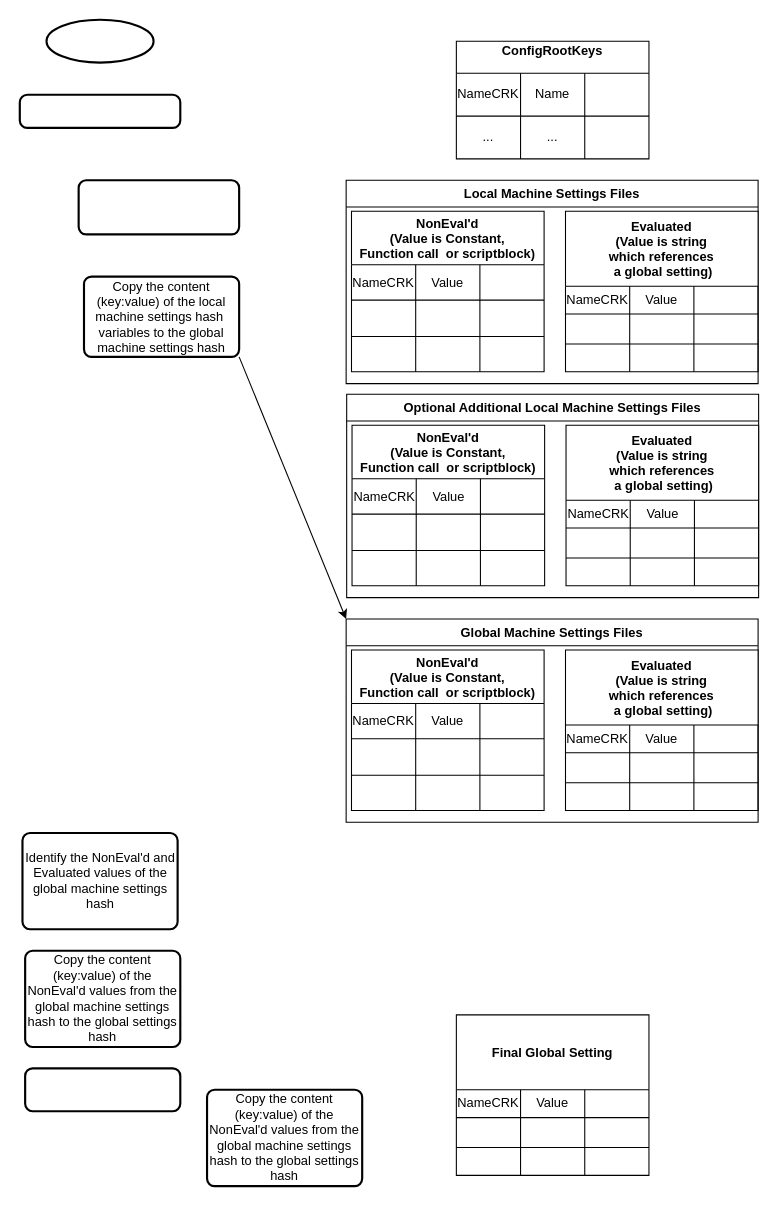
Some shapes in this 777 by 1205 pixel diagram are drawn without their labels. The shapes that lost their labels are listed below. From the top down, each one's centre as x and y in pixels, then its label:
At point 99,40: "Machine Profile execution start".
At point 99,110: "Dot-Source files matching the CRK pattern".
At point 158,207: "Dot-Source files matching the Local Machine Settings pattern".
At point 102,1089: "Topologically sort the Evaluated values".
